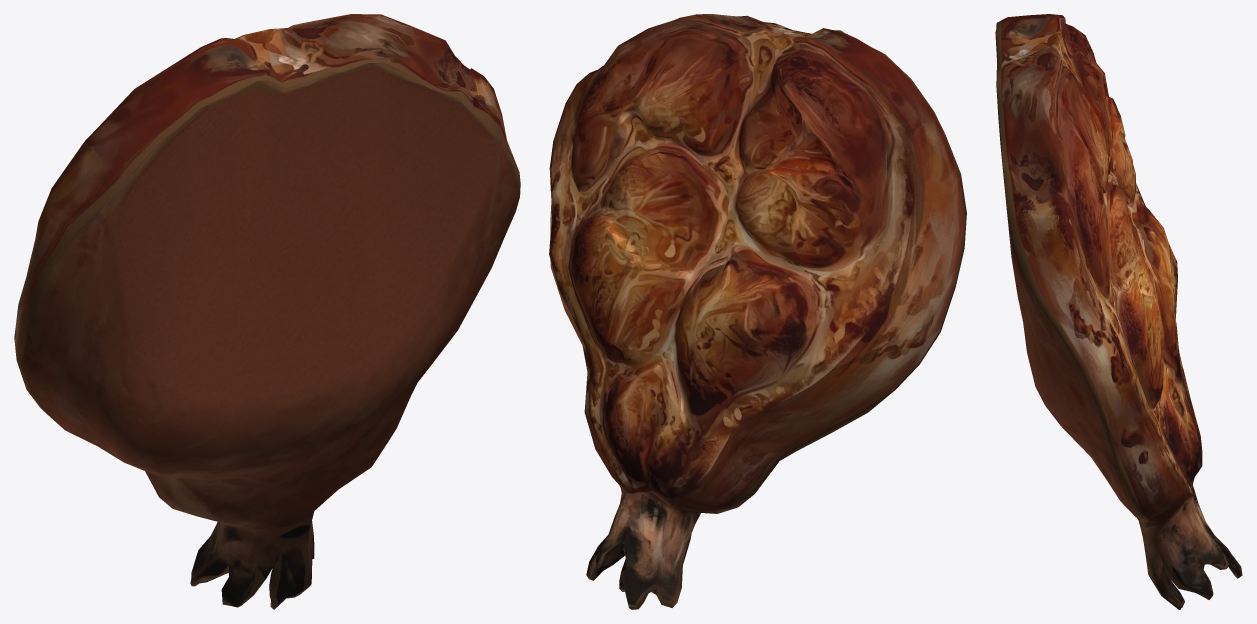
File: meat_cooked.glb
3 renders of one model, left to right at view 1: azimuth 30°, elevation 25°; view 2: azimuth 150°, elevation 25°; view 3: azimuth 270°, elevation 25°, orthographic. The views are drawn at different scales.
Bounding box in the file's own units: 0.7786 × 1 × 0.4189.
Materials: 1 (1 with a texture image).
